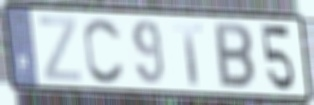5: (259, 23, 297, 93)
9: (130, 17, 166, 88)
B: (213, 20, 257, 92)
C: (82, 15, 127, 86)
T: (172, 21, 205, 87)
Z: (37, 14, 83, 84)
